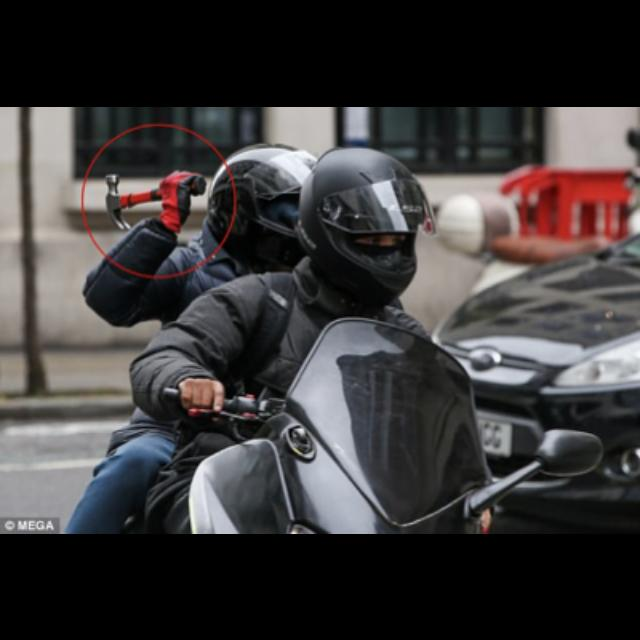With Helmet: (297, 138, 438, 302)
